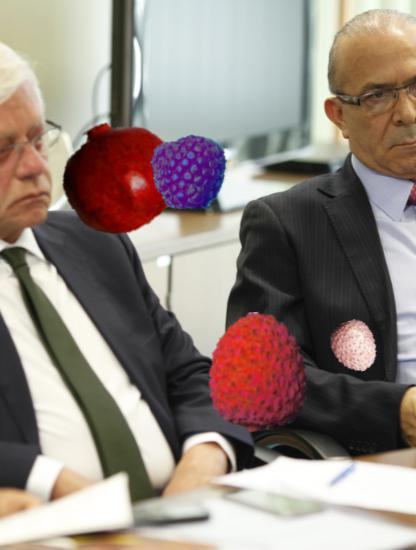Lychee: (198, 312, 318, 432), (328, 321, 380, 373)
Pomegranate: (61, 118, 178, 235)
Raspberry: (150, 134, 227, 211)
